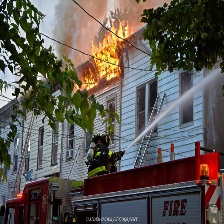fire: (82, 18, 129, 86)
smoke: (46, 1, 164, 50)
